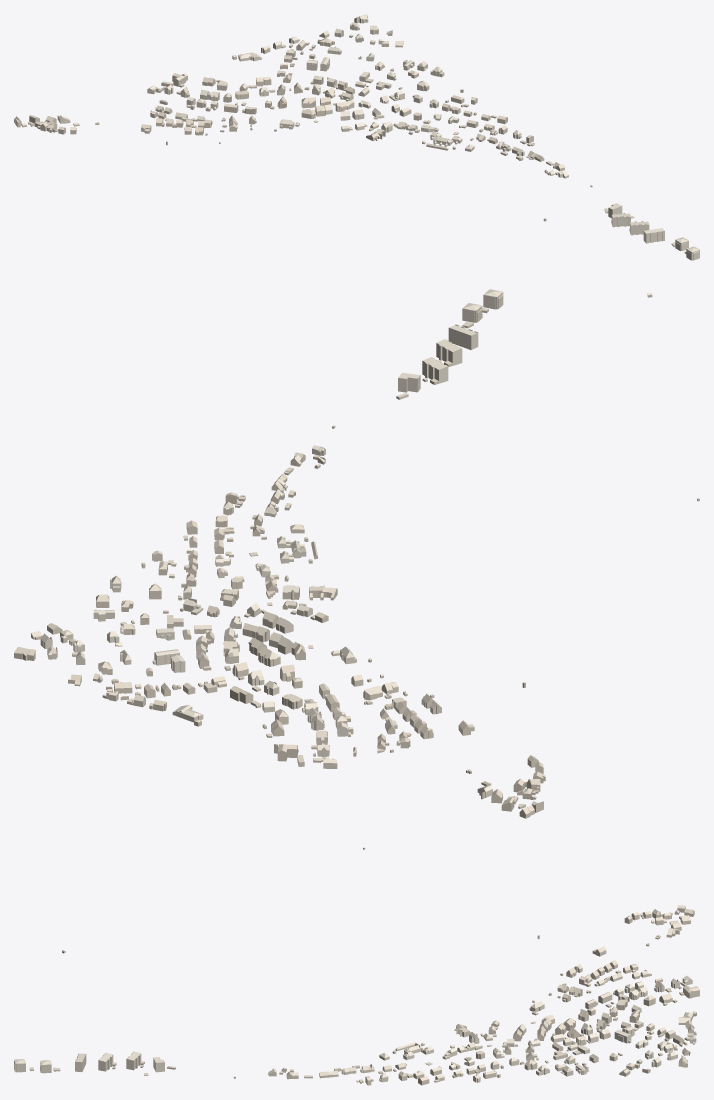
3 views of the same model, one above another, from view 1: azimuth 30°, elevation 25°; view 2: azimuth 150°, elevation 25°; view 3: azimuth 270°, elevation 25° (orthographic). The views are drawn at different scales.
Size of the model in its own units: 708 by 163 by 1122.
